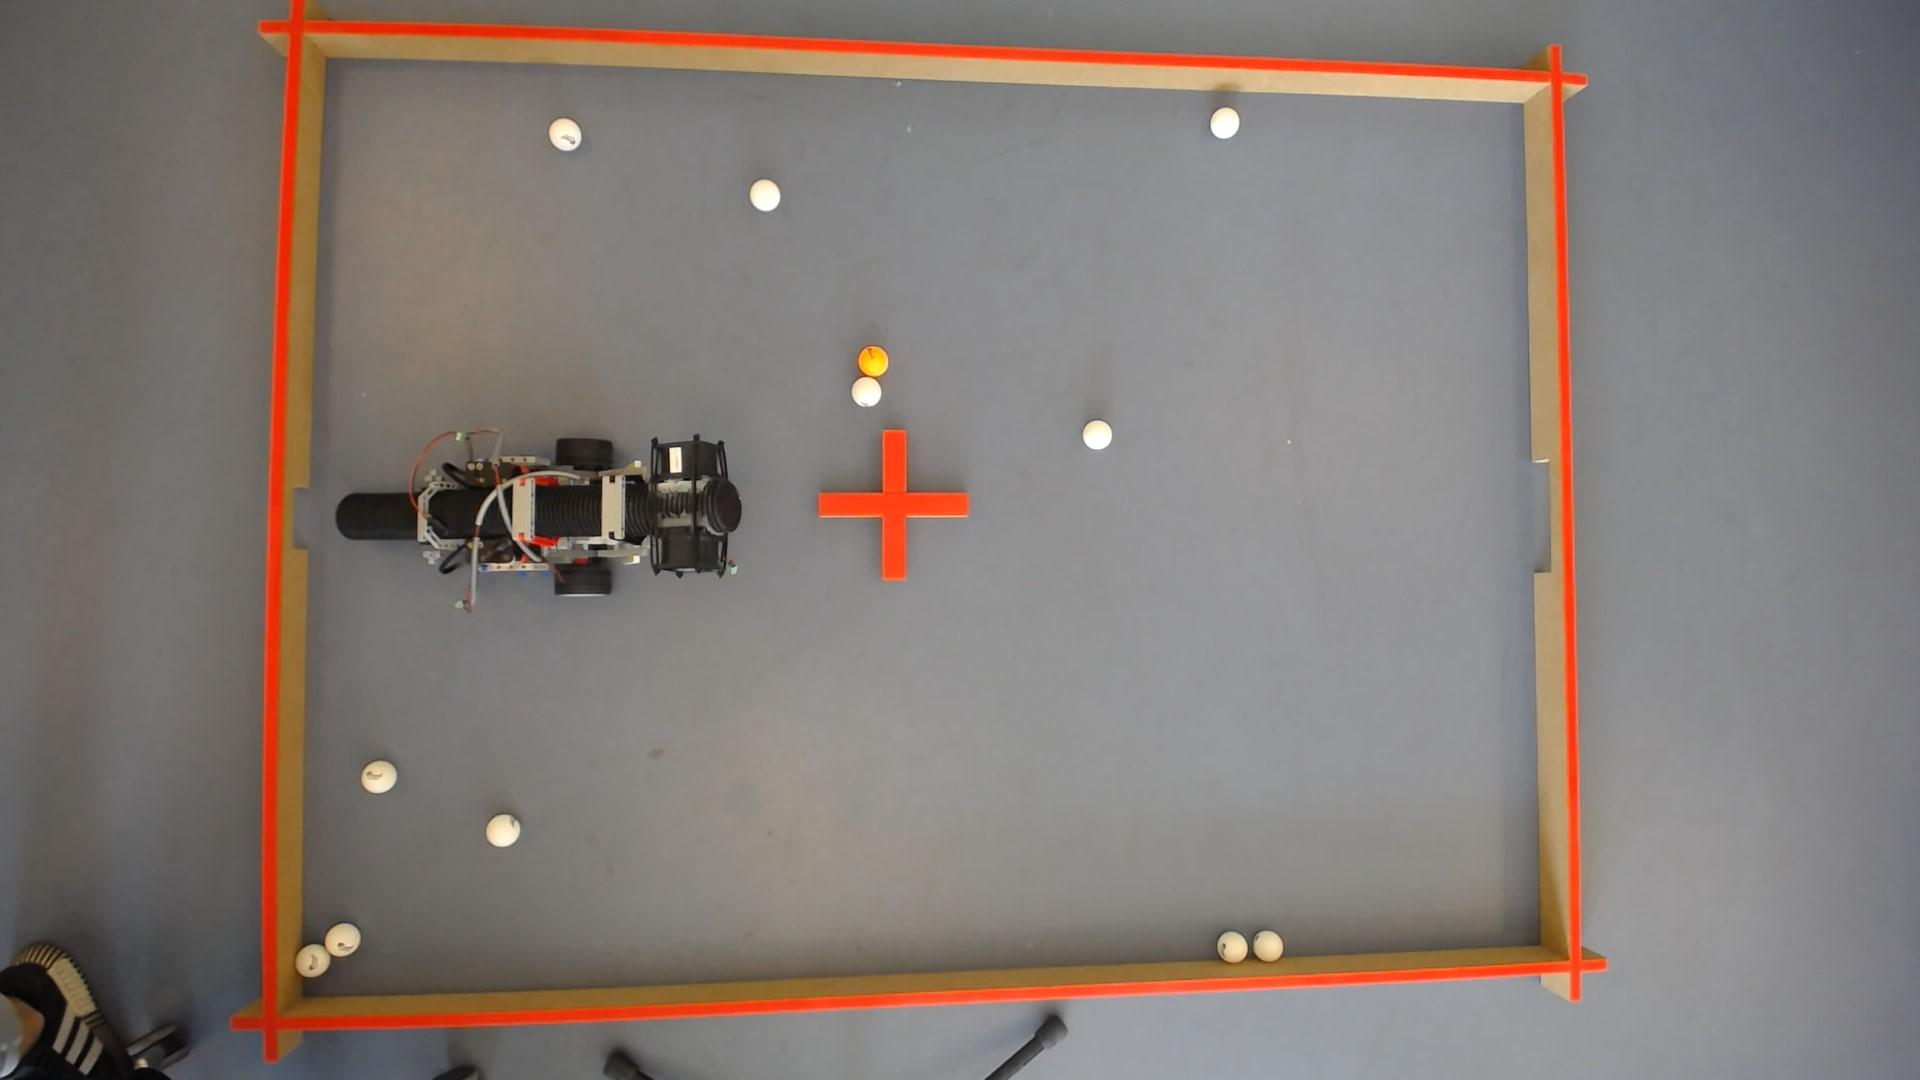orange: (858, 344, 888, 376)
robot: (336, 434, 741, 588)
white: (322, 923, 359, 958), (358, 760, 396, 794), (293, 944, 330, 978), (484, 814, 519, 848), (548, 115, 581, 150), (1253, 930, 1286, 964), (1218, 931, 1250, 964), (749, 176, 780, 210), (851, 374, 882, 406), (1212, 104, 1241, 136), (1084, 418, 1114, 448)
